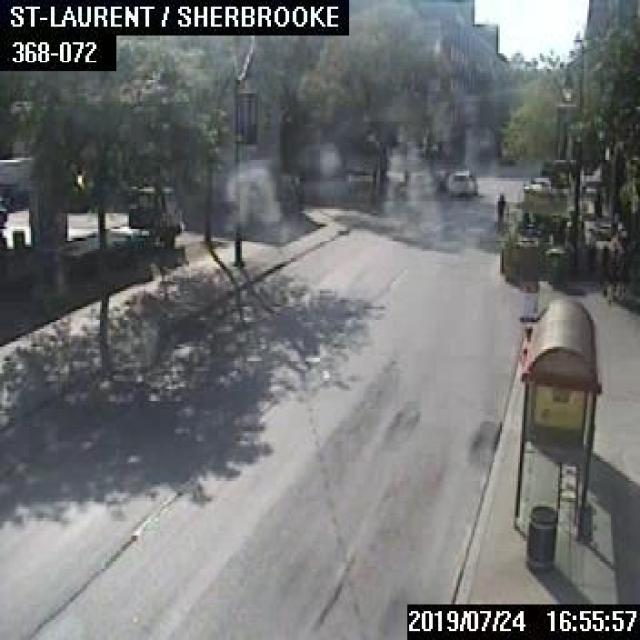pedestrian: (494, 191, 505, 228), (598, 240, 609, 275)
vehicle: (126, 186, 182, 228), (444, 169, 476, 195)
